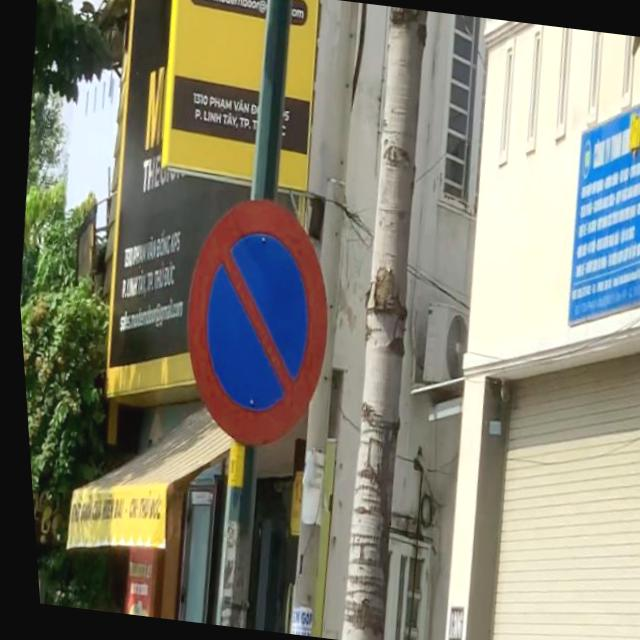Cam do xe: (159, 186, 343, 465)
